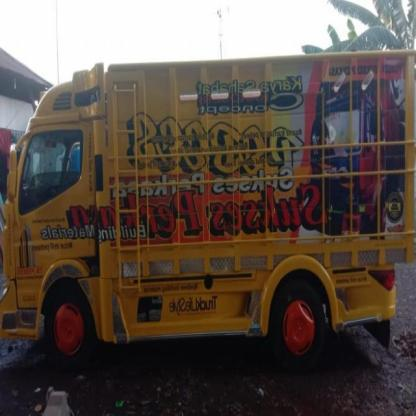truck: (1, 49, 416, 369)
